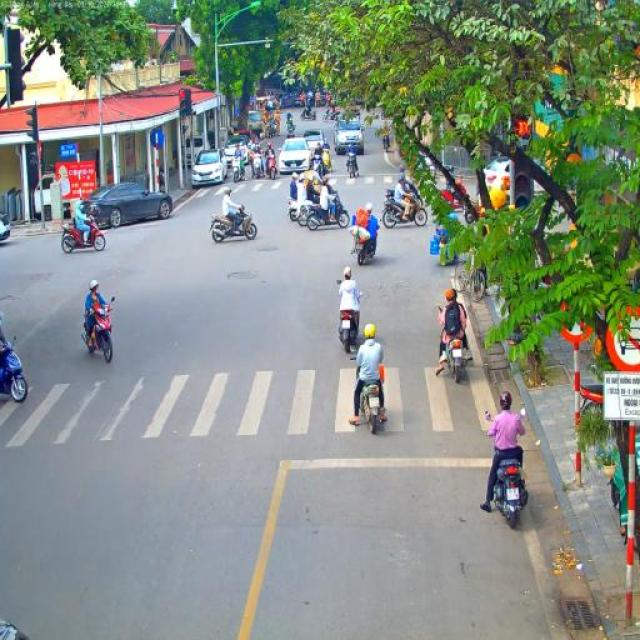car: (80, 182, 174, 229), (192, 149, 228, 186), (333, 116, 365, 156), (278, 137, 312, 173), (482, 152, 509, 192), (222, 133, 249, 167), (301, 128, 325, 158), (0, 208, 10, 242), (280, 91, 300, 108)
motorcycle: (485, 409, 531, 529), (432, 306, 471, 384), (350, 354, 385, 435), (80, 296, 116, 363), (336, 279, 364, 353), (208, 205, 258, 244), (381, 188, 428, 228), (0, 338, 29, 402), (306, 189, 350, 231), (61, 214, 107, 253), (286, 192, 324, 227), (350, 222, 380, 266), (571, 382, 604, 422), (459, 192, 482, 224), (438, 183, 462, 213), (307, 154, 323, 181), (344, 152, 360, 178), (265, 153, 279, 181), (231, 154, 244, 183), (250, 152, 264, 178), (321, 149, 333, 176), (322, 107, 340, 122), (299, 108, 317, 121), (381, 108, 399, 120), (268, 116, 277, 138), (286, 122, 296, 138), (382, 134, 390, 151), (262, 118, 268, 138), (326, 95, 334, 107), (307, 96, 314, 108), (315, 94, 321, 107), (299, 97, 306, 108)
truck: (234, 110, 264, 144)
